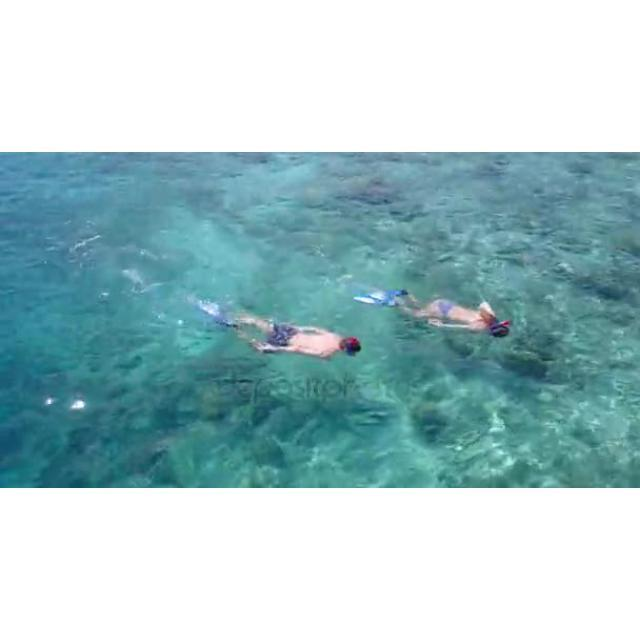human: (211, 301, 362, 359), (393, 289, 511, 339)
